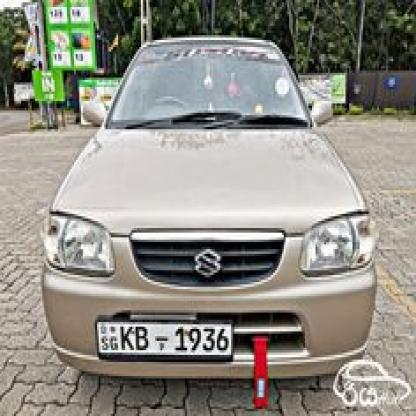car front: (44, 32, 379, 390)
number plate: (98, 321, 233, 361)
